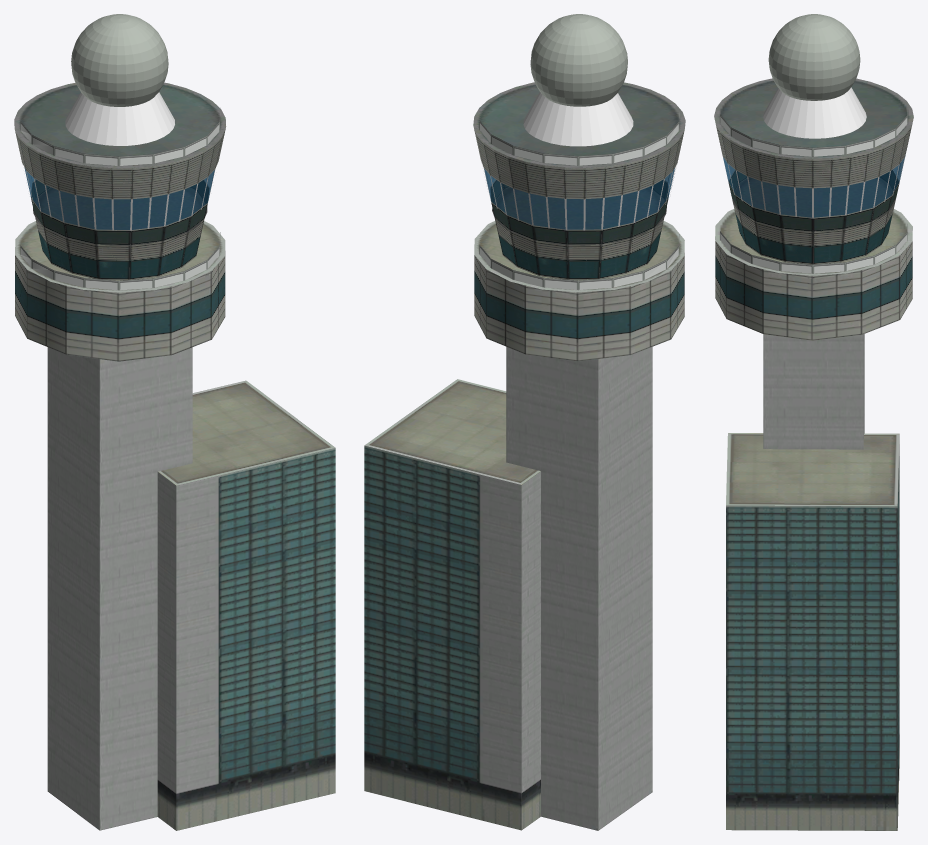
File: tower1.gltf
The picture shows the model from 3 angles, left to right: view 1: azimuth 30°, elevation 25°; view 2: azimuth 150°, elevation 25°; view 3: azimuth 270°, elevation 25°; orthographic projection. The views are drawn at different scales.
Visible parts, largest first — view 1: node_7, node_6, node_4, node_1, node_3, node_2, node_5; view 2: node_7, node_6, node_4, node_1, node_3, node_2, node_5; view 3: node_7, node_6, node_4, node_1, node_3, node_2, node_5.
Boxes of the visible parts, x1,y1,x2,y2 form: node_7: (15,179,335,830); node_6: (14,82,335,485); node_4: (14,108,225,290); node_1: (71,14,168,106); node_3: (24,168,214,229); node_2: (65,92,174,145); node_5: (25,169,215,230); node_7: (364,179,684,830); node_6: (364,82,685,484); node_4: (473,109,684,290); node_1: (530,14,627,106); node_3: (484,168,674,229); node_2: (523,92,633,146); node_5: (483,166,675,230); node_7: (715,170,912,830); node_6: (714,78,913,506); node_4: (716,107,913,273); node_1: (768,14,860,100); node_3: (723,156,905,217); node_2: (763,87,866,138); node_5: (723,157,904,217).
Bounding box in the file's own units: 19.93 × 57.58 × 13.95.
